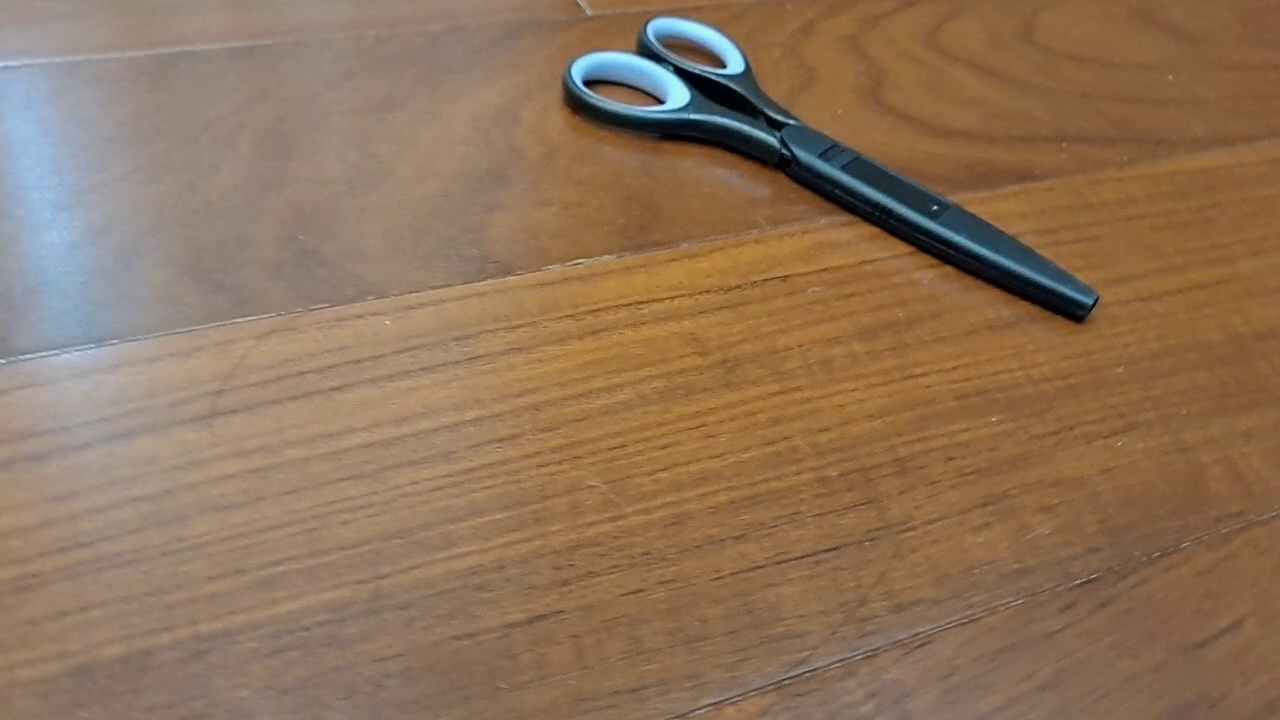scissors: (561, 14, 1100, 324)
